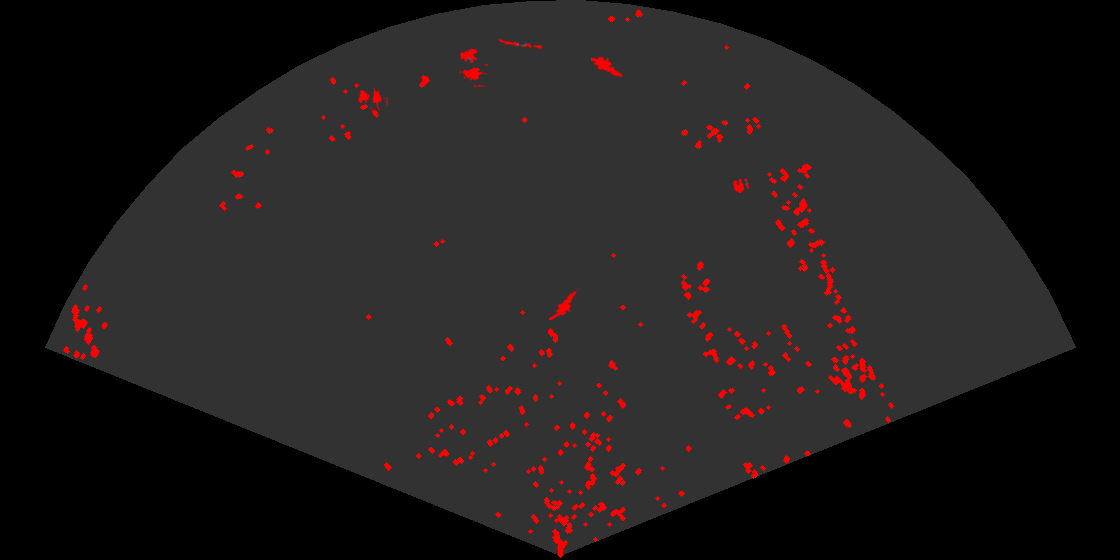ball: (731, 177, 751, 195)
cage: (457, 47, 488, 87), (356, 86, 388, 111)
chain: (497, 37, 542, 51)
frogman: (549, 288, 582, 320), (591, 55, 626, 79)
